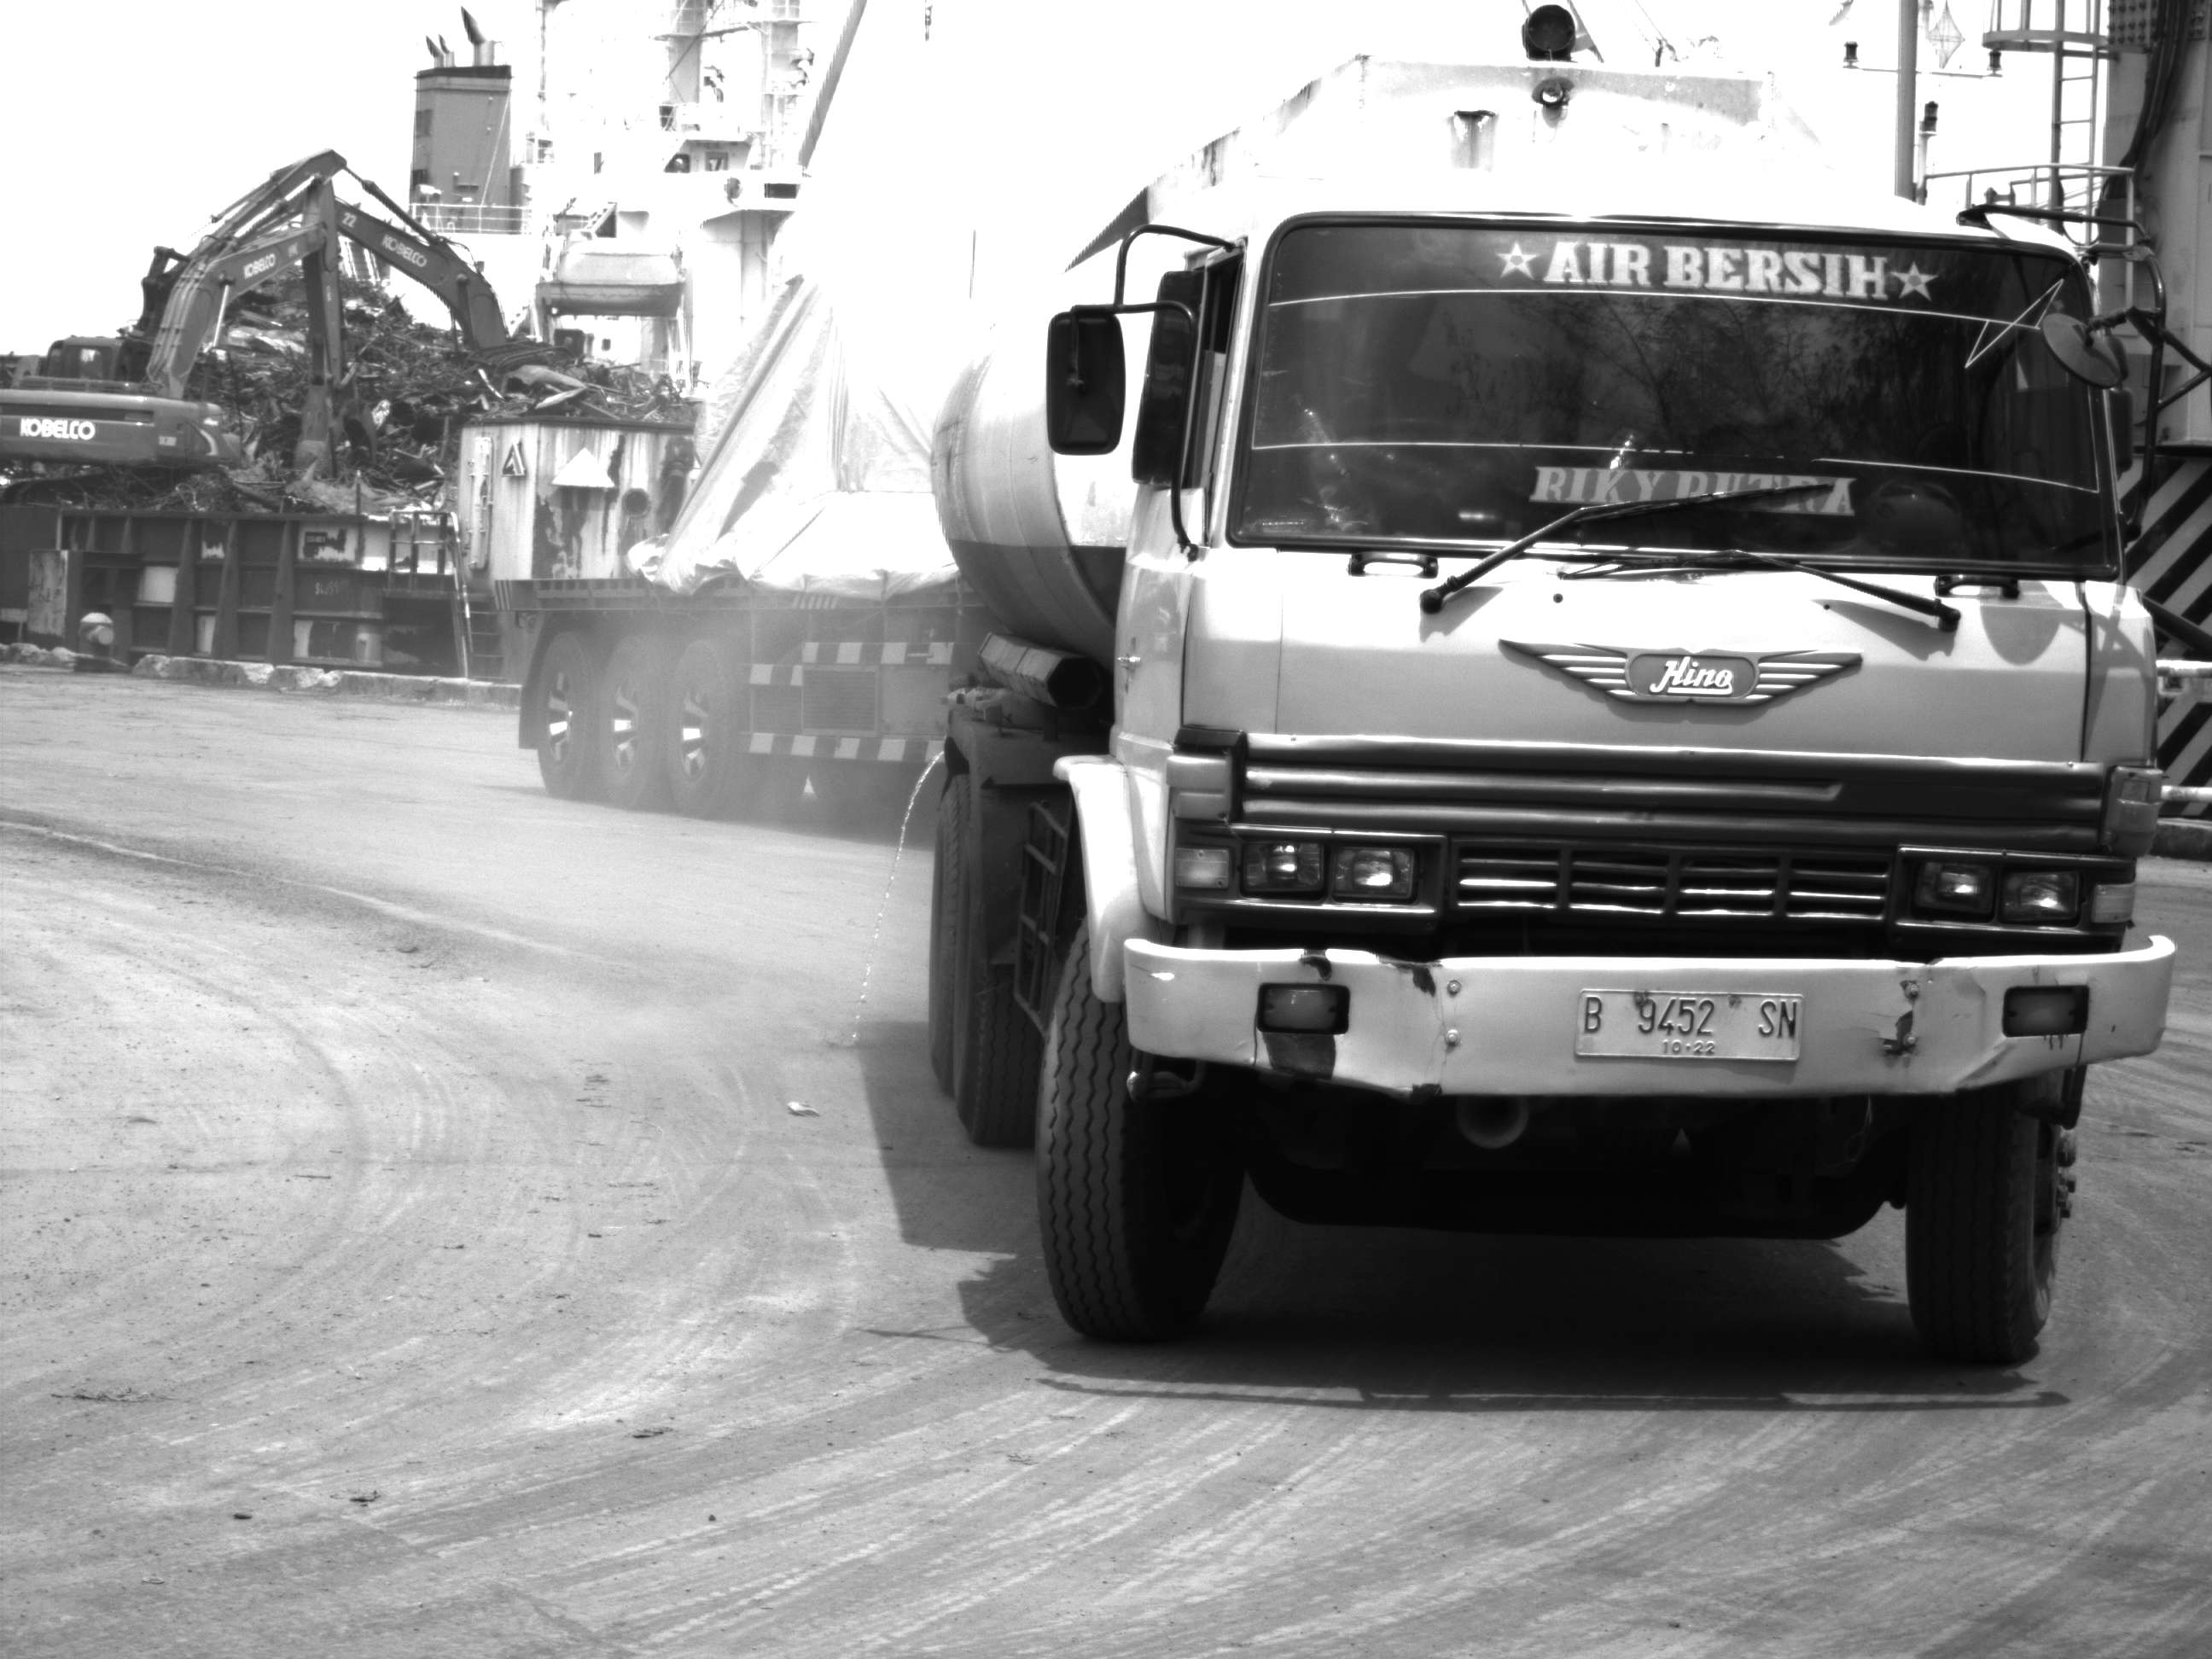day_truck_front: (1035, 192, 2179, 1367)
plate: (1575, 990, 1808, 1062)
